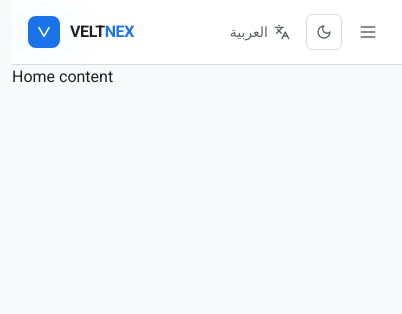
Test: Public mobile navigation › closes the mobile menu when registration is opened
Step 1. Click the button named "Toggle menu" → [368, 32], box [350, 14, 386, 50]
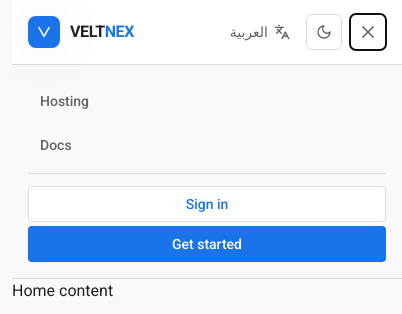
Step 2. Click the button "Get started" → [207, 244], box [28, 226, 386, 262]
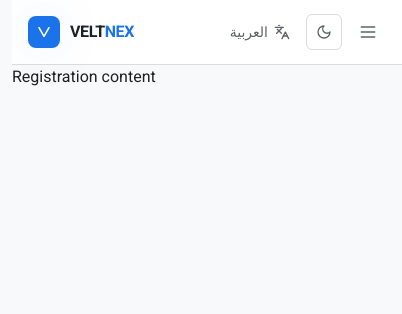
expect the text "Registration content" is shown: met, box [12, 67, 156, 86]
expect the navigation bar is gone: met
